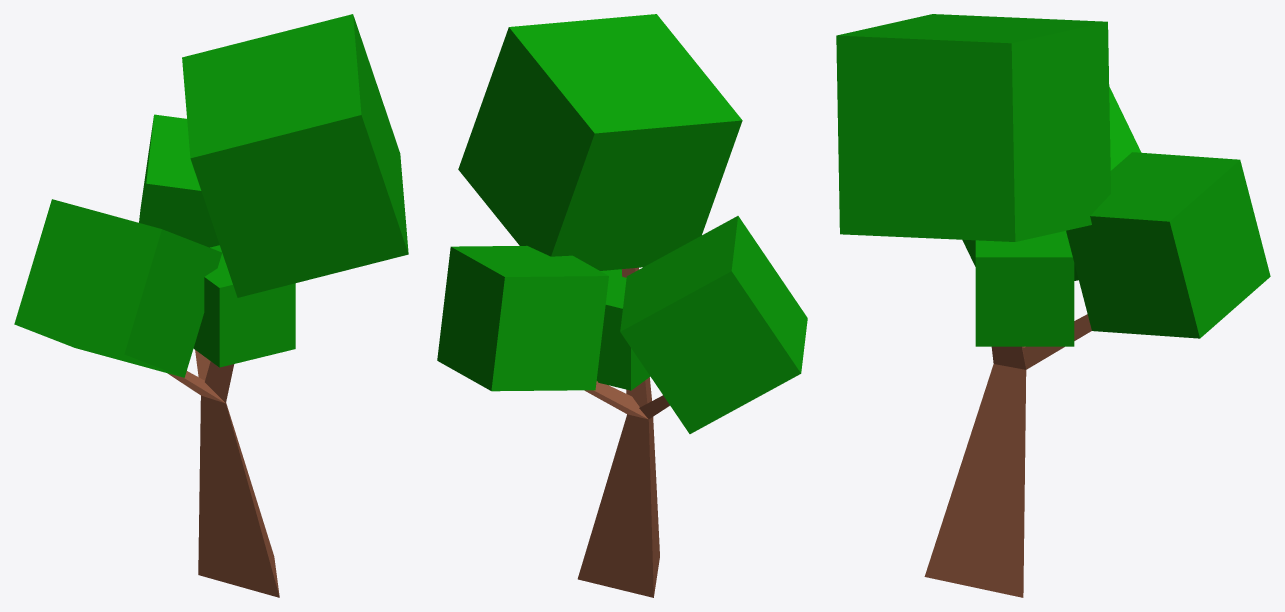
The model's file is Tree.glb.
3 renders of one model, left to right at view 1: azimuth 30°, elevation 25°; view 2: azimuth 150°, elevation 25°; view 3: azimuth 270°, elevation 25°, orthographic. The views are drawn at different scales.
Visible parts, largest first — view 1: Tree; view 2: Tree; view 3: Tree.
Boxes of the visible parts, box(x1,y1,x2,y2) form: Tree: box(14, 14, 408, 597); Tree: box(437, 14, 807, 597); Tree: box(836, 14, 1270, 597).
Bounding box in the file's own units: 9.57 × 13.28 × 8.78.
